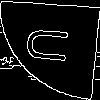U: (25, 25, 78, 66)
